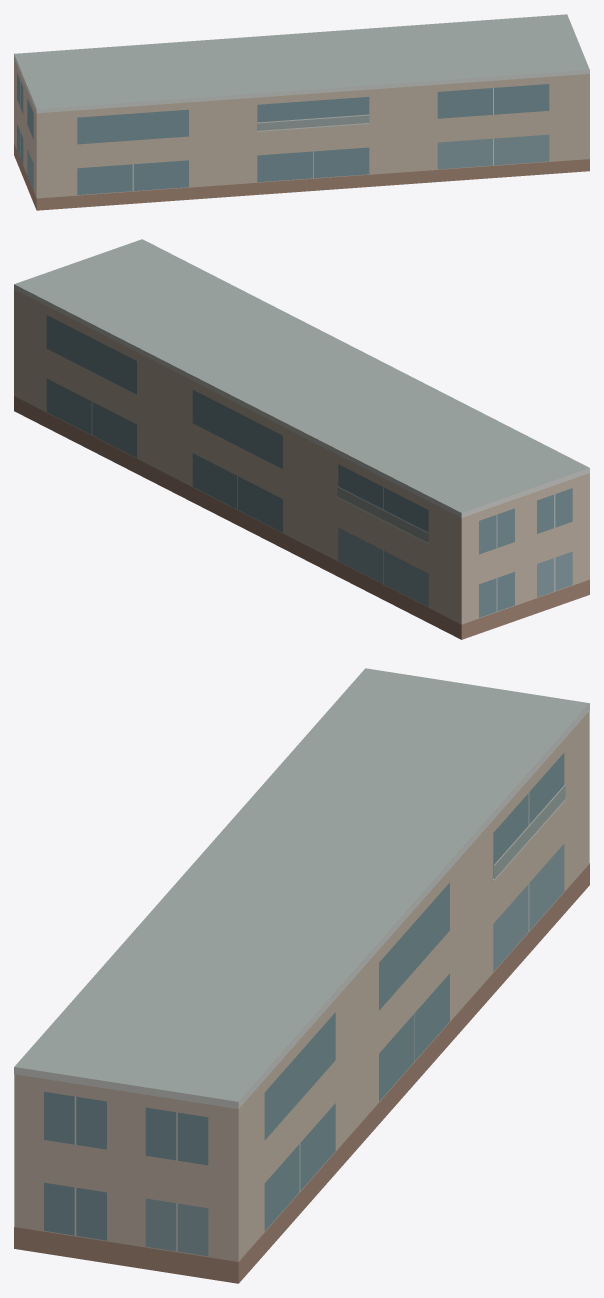
Rendered from survey-upis-32908476.glb.
The picture shows the model from 3 angles, top to bottom: view 1: azimuth 30°, elevation 25°; view 2: azimuth 150°, elevation 25°; view 3: azimuth 270°, elevation 25°; orthographic projection. The views are drawn at different scales.
Visible parts, largest first — view 1: survey-upis-32908476.tmp; view 2: survey-upis-32908476.tmp; view 3: survey-upis-32908476.tmp.
Part boxes in pixels (x1,y1,x2,y2): survey-upis-32908476.tmp: (14,14,589,210); survey-upis-32908476.tmp: (14,239,589,639); survey-upis-32908476.tmp: (14,668,589,1283).
Bounding box in the file's own units: 31.2 × 6.1 × 17.51.
